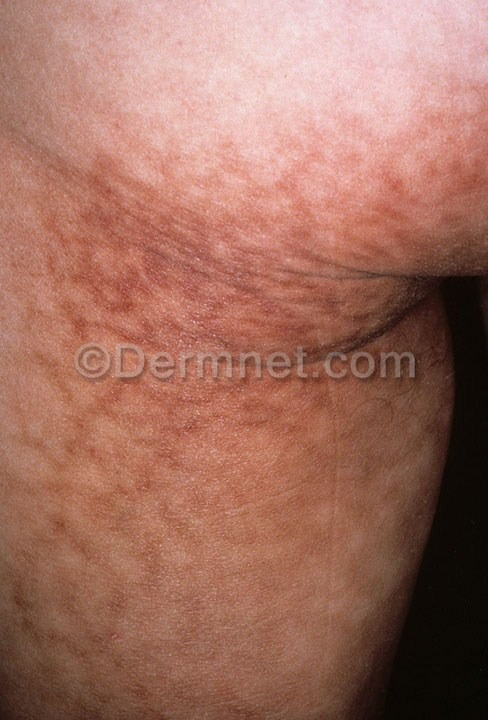Melasma: (36, 138, 488, 344), (31, 388, 187, 706)
